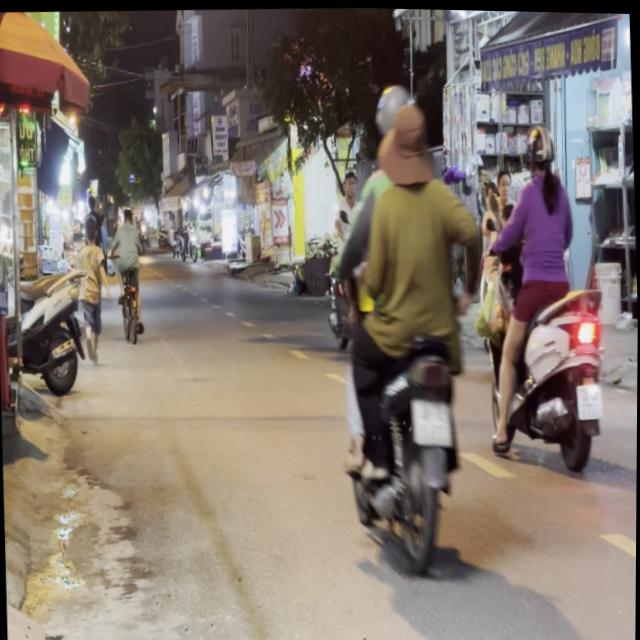helmet: (372, 79, 414, 137), (526, 118, 557, 173)
licenseplate: (323, 74, 488, 575), (475, 113, 613, 476)
motorcyclist: (377, 94, 434, 183)
nohelmet: (412, 394, 453, 442), (576, 379, 603, 414)
